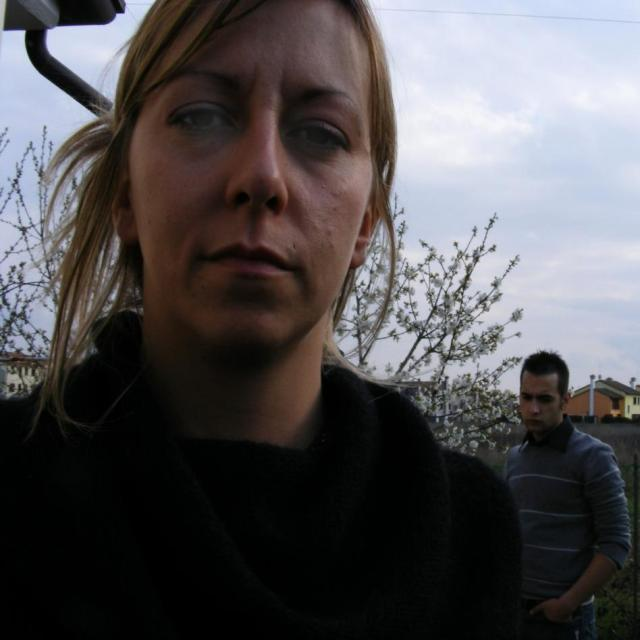no-glass: (167, 112, 353, 150)
